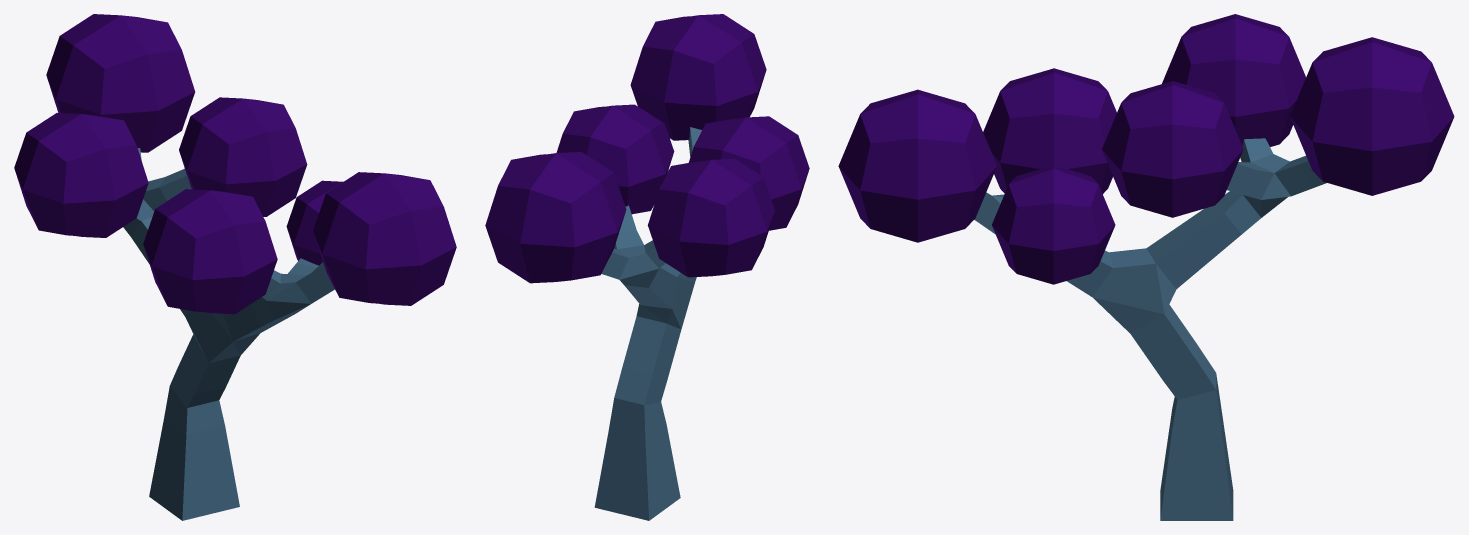
File: TreeLarge2.fbx
3 renders of one model, left to right at view 1: azimuth 30°, elevation 25°; view 2: azimuth 150°, elevation 25°; view 3: azimuth 270°, elevation 25°, orthographic. The views are drawn at different scales.
Parts seen in each view (by area): view 1: Plane.002, Cube.009, Cube.013, Cube.012, Cube.011, Cube.014, Cube.010; view 2: Plane.002, Cube.013, Cube.009, Cube.012, Cube.014, Cube.011; view 3: Plane.002, Cube.013, Cube.009, Cube.014, Cube.011, Cube.012, Cube.010.
Boxes of the visible parts, <box> form: Plane.002: <box>123,148,334,520</box>; Cube.009: <box>313,172,456,305</box>; Cube.013: <box>46,14,195,152</box>; Cube.012: <box>14,113,148,237</box>; Cube.011: <box>143,189,277,314</box>; Cube.014: <box>179,97,307,216</box>; Cube.010: <box>286,180,343,265</box>; Plane.002: <box>594,127,701,520</box>; Cube.013: <box>485,152,626,283</box>; Cube.009: <box>630,14,766,140</box>; Cube.012: <box>647,159,774,277</box>; Cube.014: <box>556,104,673,214</box>; Cube.011: <box>688,116,809,230</box>; Plane.002: <box>974,138,1326,520</box>; Cube.013: <box>1290,37,1454,195</box>; Cube.009: <box>838,89,996,242</box>; Cube.014: <box>1102,81,1243,217</box>; Cube.011: <box>983,68,1116,193</box>; Cube.012: <box>1162,14,1305,146</box>; Cube.010: <box>992,165,1115,284</box>.
Size of the model in its own units: 656 by 385 by 548.
